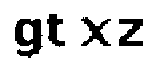g: (10, 17, 44, 60)
t: (46, 12, 69, 49)
x: (79, 13, 112, 49)
z: (118, 17, 145, 48)
